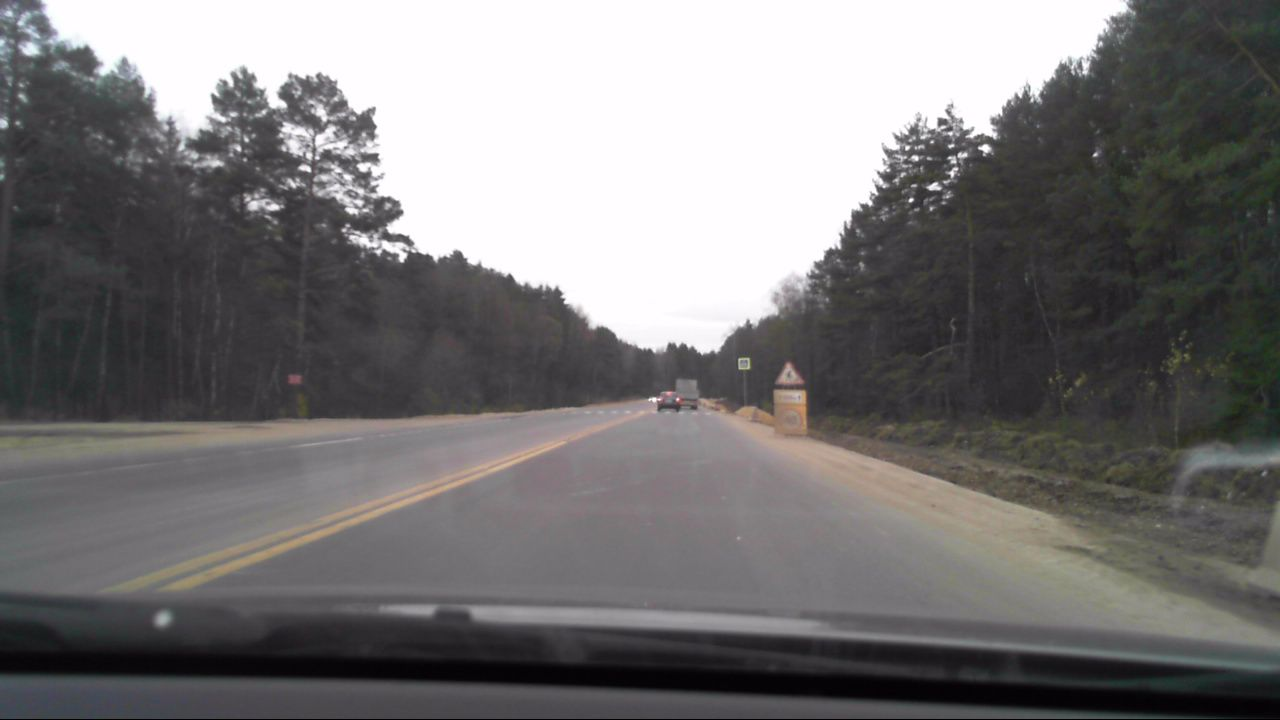speed_warning_40: (776, 408, 801, 433)
